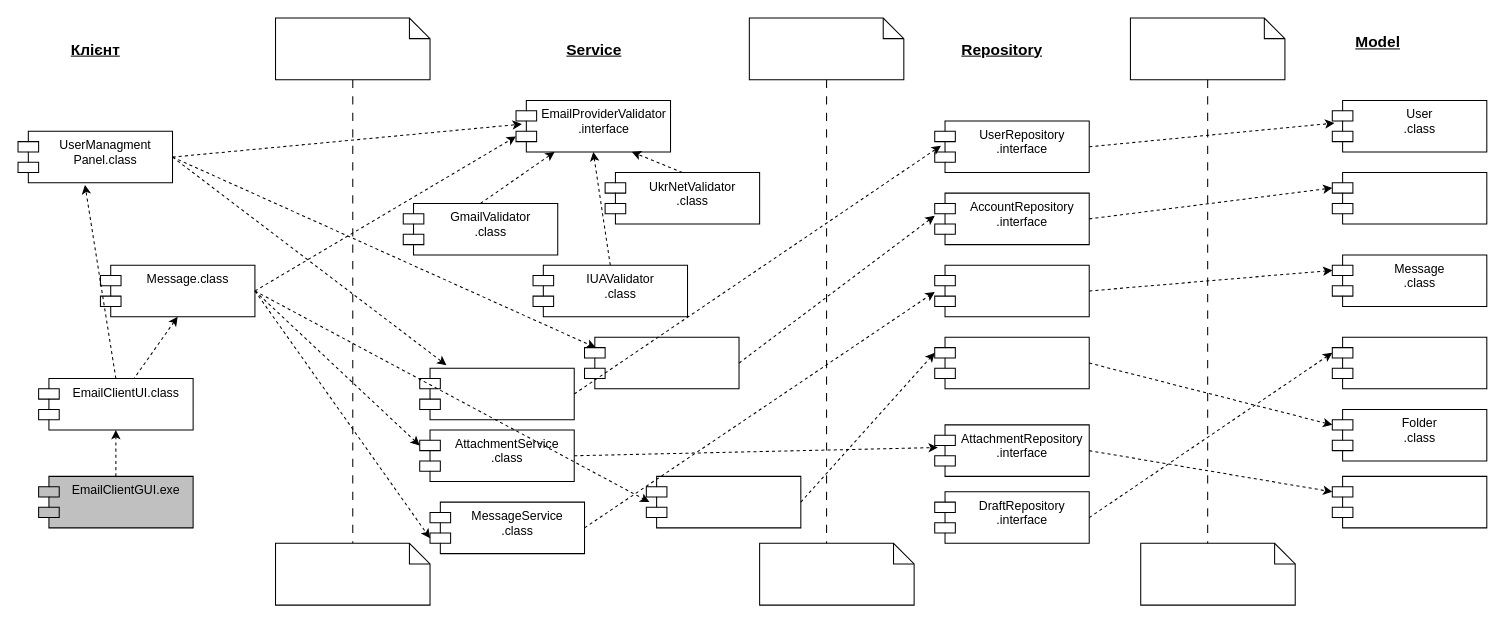
Some shapes in this 1505 by 623 pixel diagram are drawn without their labels. The centre of each missing label's shape, as x and y in pixels:
Account .class: the point at 1409,197
AccountService .class: the point at 661,362
Attachment .class: the point at 1409,501
Draft .class: the point at 1409,362
FolderRepository .interface: the point at 1011,362
FolderService .class: the point at 723,501
MessageRepository .interface: the point at 1011,290
UserService .class: the point at 496,393
